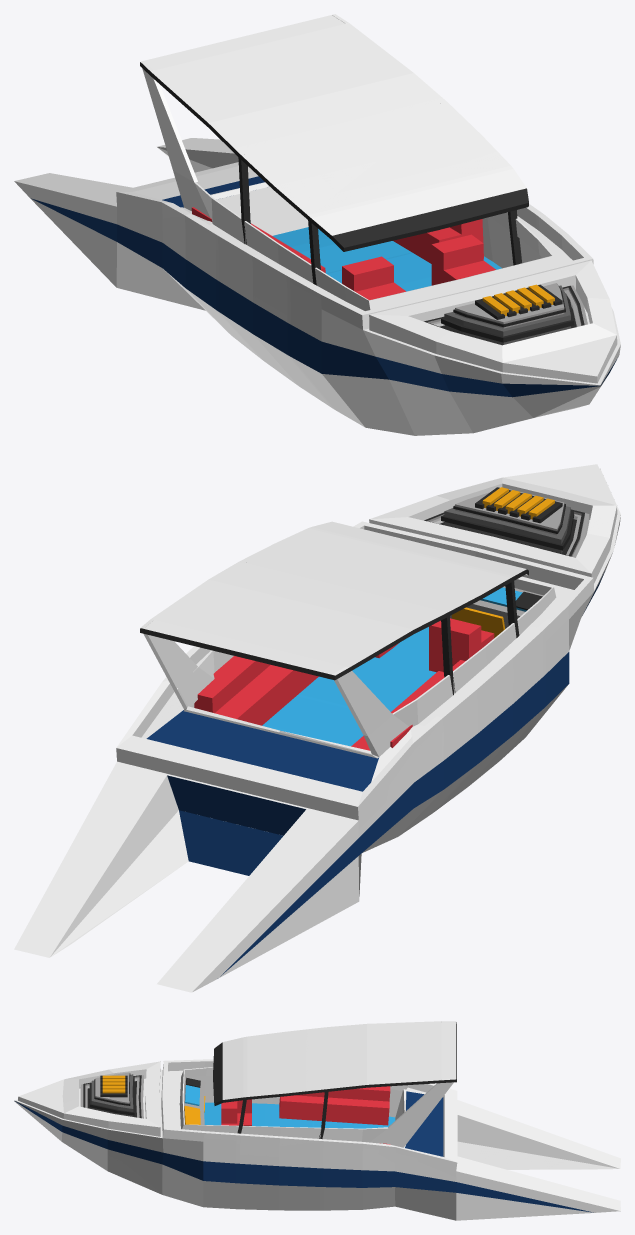
The model's file is Boat_04.glb.
3 renders of one model, top to bottom at view 1: azimuth 30°, elevation 25°; view 2: azimuth 150°, elevation 25°; view 3: azimuth 270°, elevation 25°, orthographic. The views are drawn at different scales.
Visible parts, largest first — view 1: Boat 13; view 2: Boat 13; view 3: Boat 13.
Boxes of the visible parts, x1,y1,x2,y2 form: Boat 13: (14, 14, 620, 435); Boat 13: (14, 464, 620, 992); Boat 13: (14, 1021, 620, 1220).
Bounding box in the file's own units: 9.17 × 7.48 × 30.25.
1 material, 1 textured.
